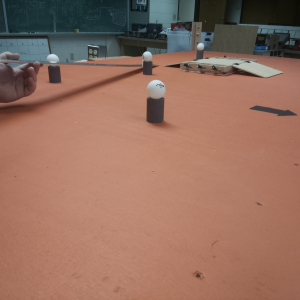obstacle: (146, 79, 167, 123), (142, 49, 153, 78), (46, 65, 62, 82), (196, 43, 204, 57)
side: (181, 61, 226, 77)
slope: (234, 61, 282, 80)
